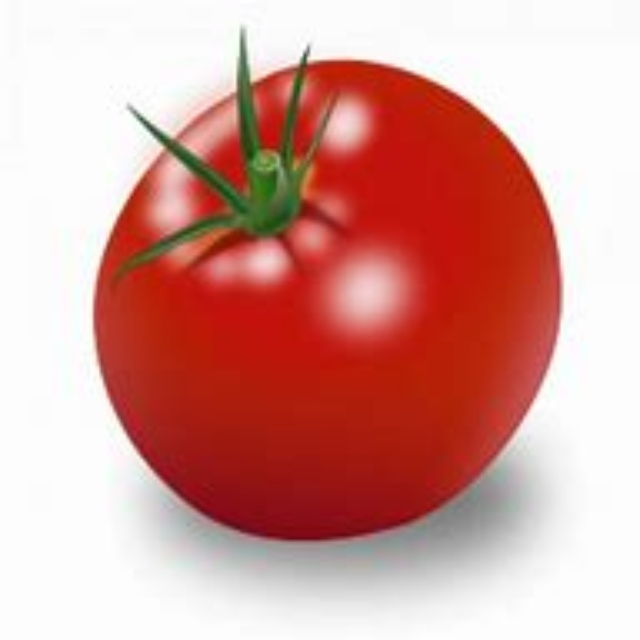tomato: (84, 28, 562, 546)
